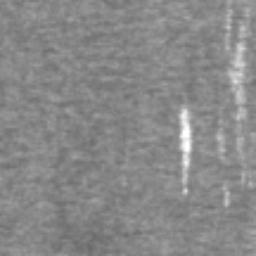White rust: (227, 7, 253, 122), (178, 107, 192, 195), (225, 3, 234, 51), (216, 126, 226, 154), (222, 185, 231, 207)
